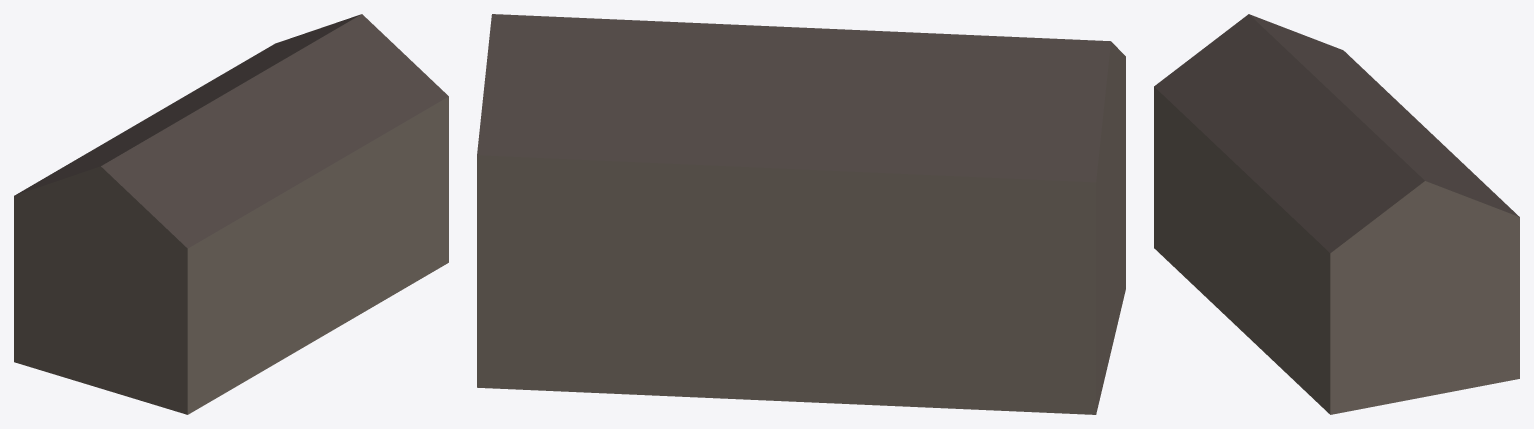
3 views of the same model, side by side, from view 1: azimuth 30°, elevation 25°; view 2: azimuth 150°, elevation 25°; view 3: azimuth 270°, elevation 25° (orthographic). The views are drawn at different scales.
Parts seen in each view (by area): view 1: HP-w859086181; view 2: HP-w859086181; view 3: HP-w859086181.
Boxes of the visible parts, bbox=[...] form: HP-w859086181: bbox=[14, 14, 448, 414]; HP-w859086181: bbox=[477, 14, 1125, 414]; HP-w859086181: bbox=[1154, 14, 1519, 414].
Size of the model in its own units: 24.25 by 12.03 by 18.47.
